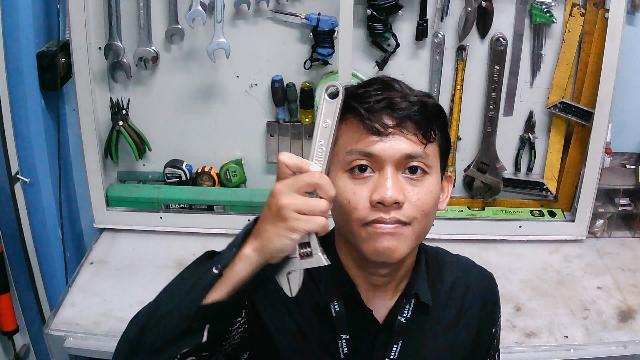kunci_inggris: (273, 81, 346, 298)
